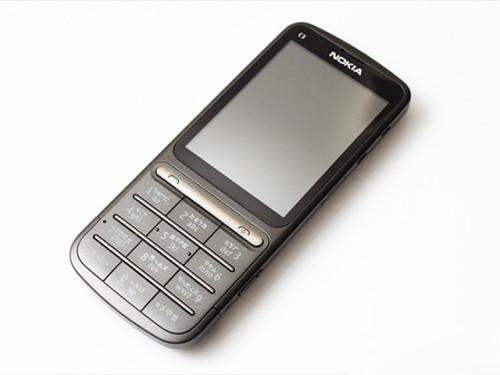phone: (97, 45, 374, 312)
